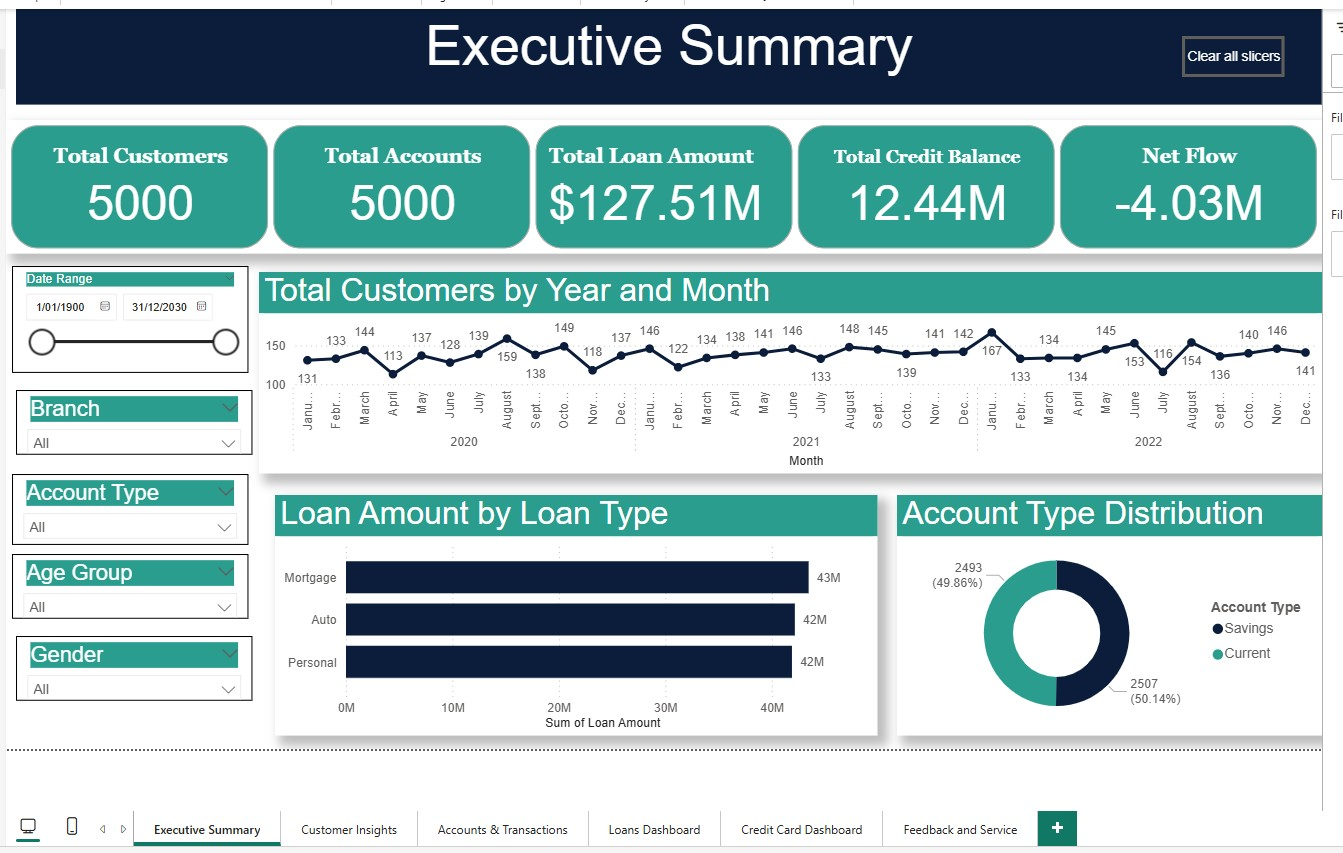

Layout of this report page (visuals, bound fields, positions):
{"tool":"powerbi","page":{"name":"Executive Summary","canvas":[1280,720],"ordinal":0},"visuals":[{"type":"textbox","box":[9.7,0,1270.3,93.4],"z":0},{"type":"cardVisual","fields":{"Data":["MeasuresTable.Total Customers","MeasuresTable.Total Accounts","MeasuresTable.Total Loan Amount","MeasuresTable.Total Credit Balance","MeasuresTable.Net Flow"]},"box":[0,108,1280,130.3],"z":1000},{"type":"slicer","fields":{"Values":["DimDate.Date"]},"box":[5.4,250.3,230.3,104.3],"z":2000},{"type":"slicer","fields":{"Values":["DimBranch.City"]},"box":[10,370.9,230.3,62.6],"z":3000},{"type":"slicer","fields":{"Values":["DimAccount.Account Type"]},"box":[5.4,452.5,230.3,68.9],"z":4000},{"type":"lineChart","fields":{"Y":["MeasuresTable.Total Customers"],"Category":["DimDate.Date.Variation.Date Hierarchy.Year","DimDate.Date.Variation.Date Hierarchy.Month"]},"box":[246,256,1034,196.2],"z":5000},{"type":"clusteredBarChart","title":"Loan Amount by Loan Type","fields":{"Y":["Sum(FactLoans.Loan Amount)"],"Category":["DimLoan.Loan Type"]},"box":[262.1,472.4,585.8,234],"z":6000},{"type":"donutChart","title":"Account Type Distribution","fields":{"Category":["DimAccount.Account Type"],"Y":["MeasuresTable.Total Accounts"]},"box":[866.9,472.4,413.5,234],"z":7000},{"type":"actionButton","box":[1143.5,26.3,99.7,39.9],"z":8000},{"type":"slicer","fields":{"Values":["DimCustomer.Age Group"]},"box":[5.4,530.5,230.3,62.6],"z":9000},{"type":"slicer","fields":{"Values":["DimCustomer.Gender"]},"box":[10,610.3,230.3,62.6],"z":10000}]}

Visuals, with their boxes on the page's 1280x720 design canvas (x1, y1, x2, y2). These are canvas units, not pixel positions in the 1343x853 screenshot, which may show the page scaled, cropped or inside an application window:
textbox: {"x1": 10, "y1": 0, "x2": 1280, "y2": 93}
cardVisual - MeasuresTable.Total Customers x MeasuresTable.Total Accounts: {"x1": 0, "y1": 108, "x2": 1280, "y2": 238}
slicer - DimDate.Date: {"x1": 5, "y1": 250, "x2": 236, "y2": 355}
slicer - DimBranch.City: {"x1": 10, "y1": 371, "x2": 240, "y2": 434}
slicer - DimAccount.Account Type: {"x1": 5, "y1": 452, "x2": 236, "y2": 521}
lineChart - MeasuresTable.Total Customers x DimDate.Date.Variation.Date Hierarchy.Year: {"x1": 246, "y1": 256, "x2": 1280, "y2": 452}
"Loan Amount by Loan Type" clusteredBarChart: {"x1": 262, "y1": 472, "x2": 848, "y2": 706}
"Account Type Distribution" donutChart: {"x1": 867, "y1": 472, "x2": 1280, "y2": 706}
actionButton: {"x1": 1144, "y1": 26, "x2": 1243, "y2": 66}
slicer - DimCustomer.Age Group: {"x1": 5, "y1": 530, "x2": 236, "y2": 593}
slicer - DimCustomer.Gender: {"x1": 10, "y1": 610, "x2": 240, "y2": 673}
